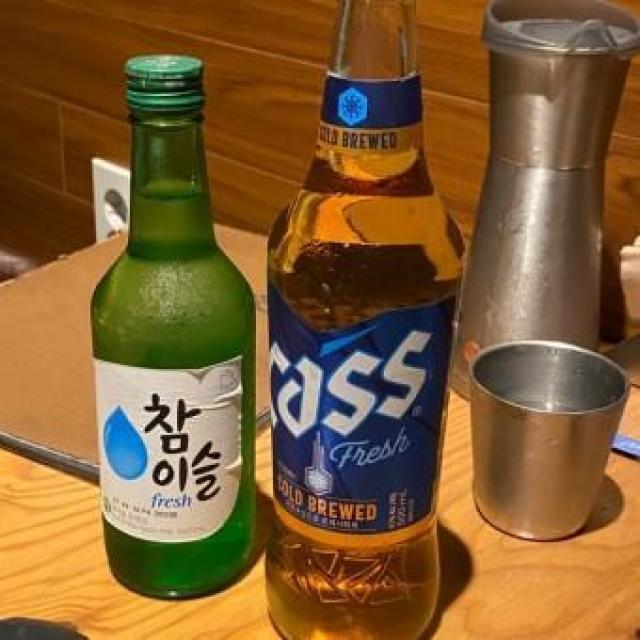beer-bottle: (264, 0, 464, 640)
soju-bottle: (90, 51, 258, 600)
